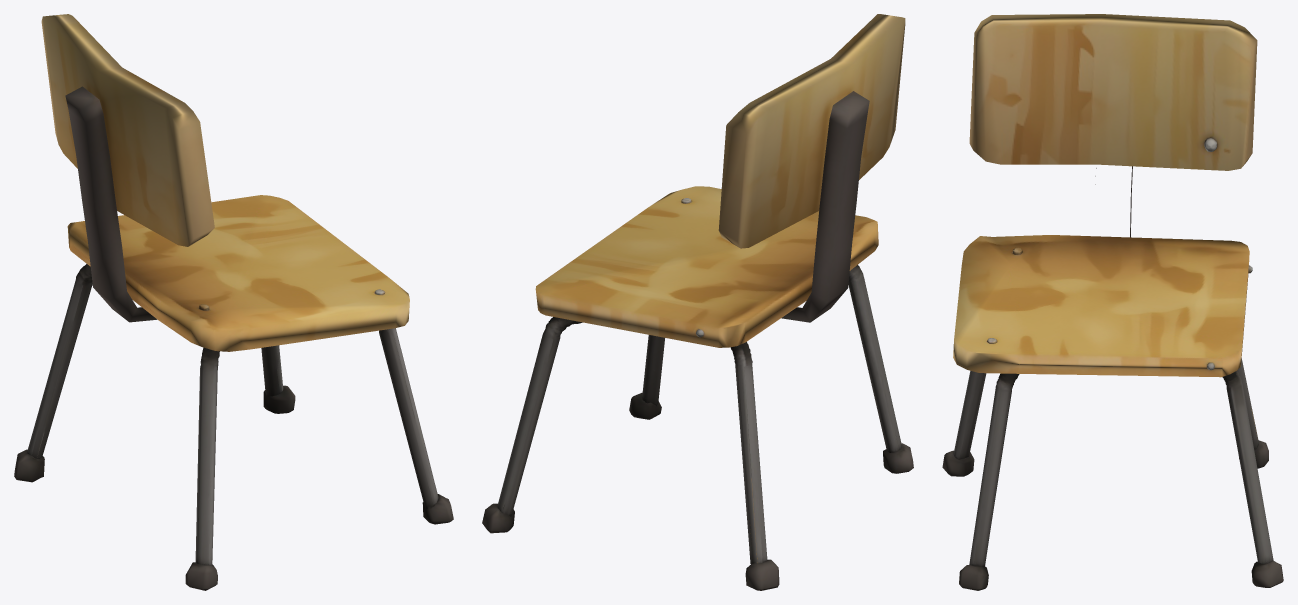
Rendered from chair.glb.
The picture shows the model from 3 angles, left to right: view 1: azimuth 30°, elevation 25°; view 2: azimuth 150°, elevation 25°; view 3: azimuth 270°, elevation 25°; orthographic projection. The views are drawn at different scales.
Parts seen in each view (by area): view 1: tripo_node_kodyurd-model-9_____________________; view 2: tripo_node_kodyurd-model-9_____________________; view 3: tripo_node_kodyurd-model-9_____________________.
Part boxes in pixels (x1,y1,x2,y2): tripo_node_kodyurd-model-9_____________________: (14, 14, 453, 590); tripo_node_kodyurd-model-9_____________________: (482, 14, 913, 590); tripo_node_kodyurd-model-9_____________________: (942, 14, 1283, 590).
Bounding box in the file's own units: 0.6777 × 0.998 × 0.6895.
Materials: 1 (1 with a texture image).
